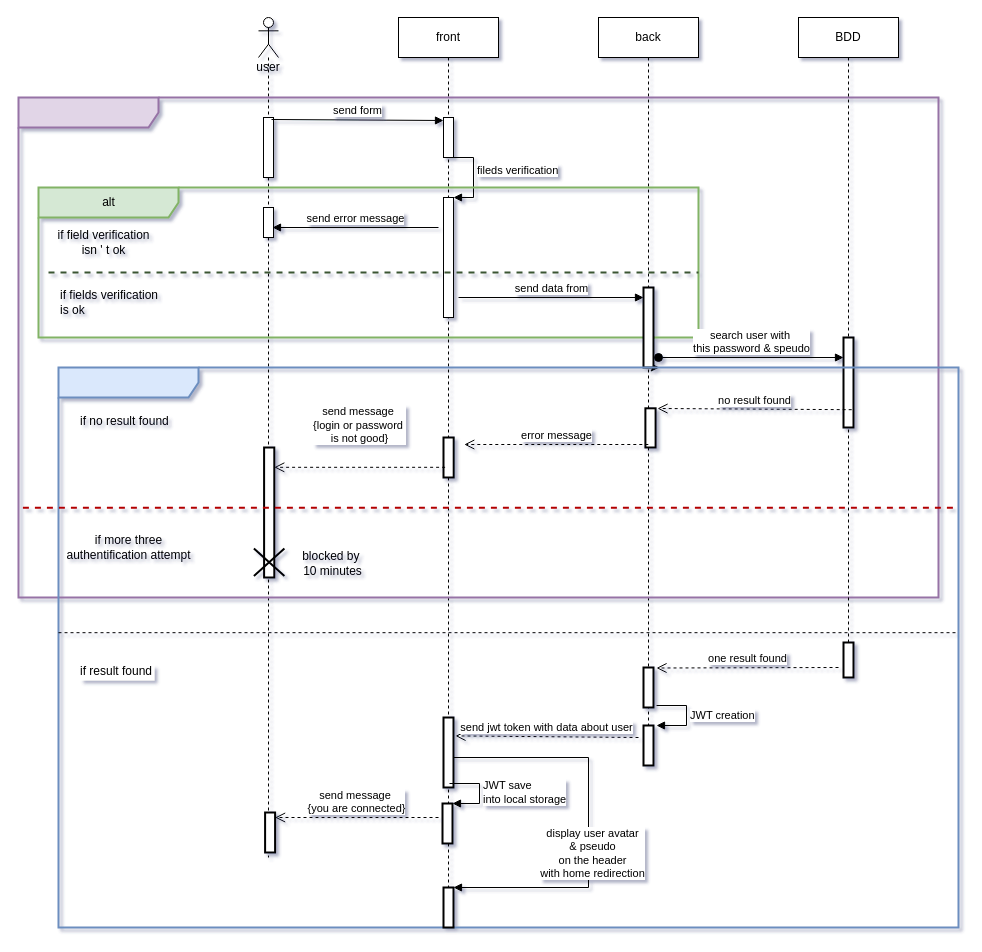
Some shapes in this 982 by 952 pixel diagram are drawn without their labels. The box of each missing label's shape, as (x1, y1, x2, y2) in pixels:
Interaction1 heading: (57, 366, 959, 928)
loop {authentication attemp}: (17, 96, 939, 598)
